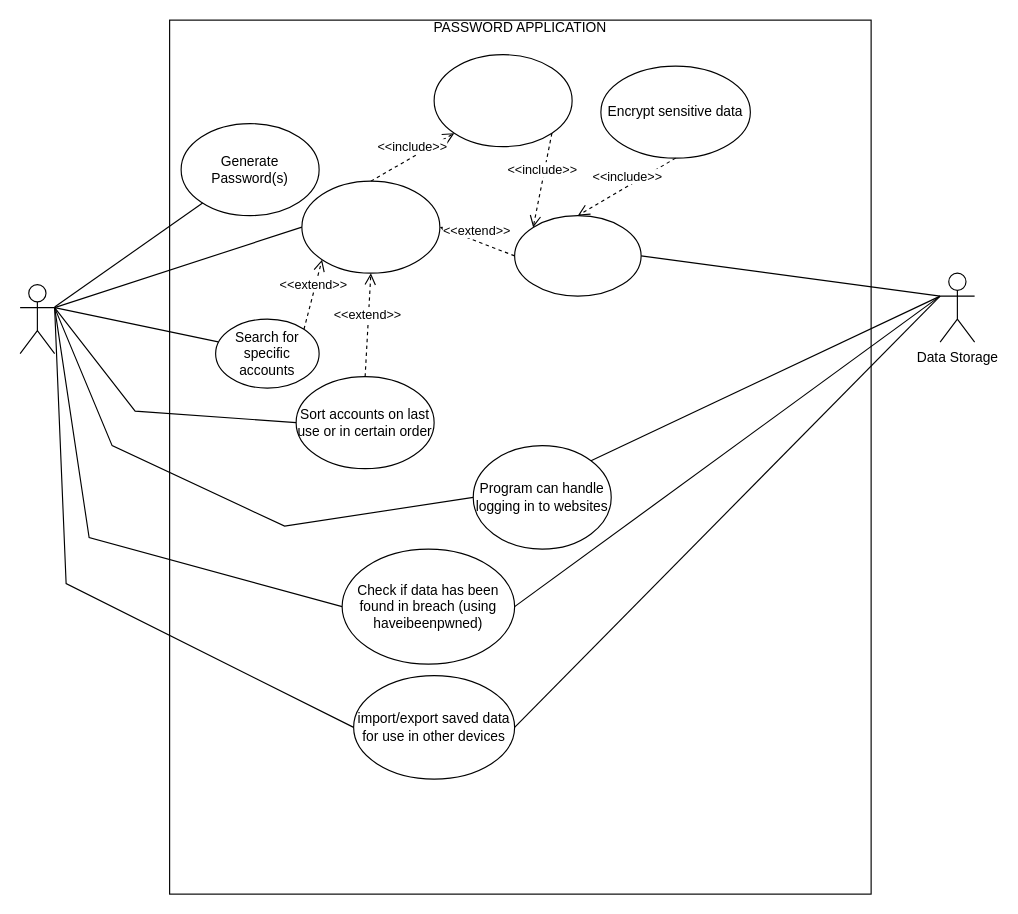
Some shapes in this 1018 by 914 pixel diagram are drawn without their labels. The centre of each missing label's shape, as x and y in pixels:
Memory protections: [502,100]
Save data to secure file on device: [577,255]
Store sensitive data within a specific "file/account": [370,226]
User: [37,318]
